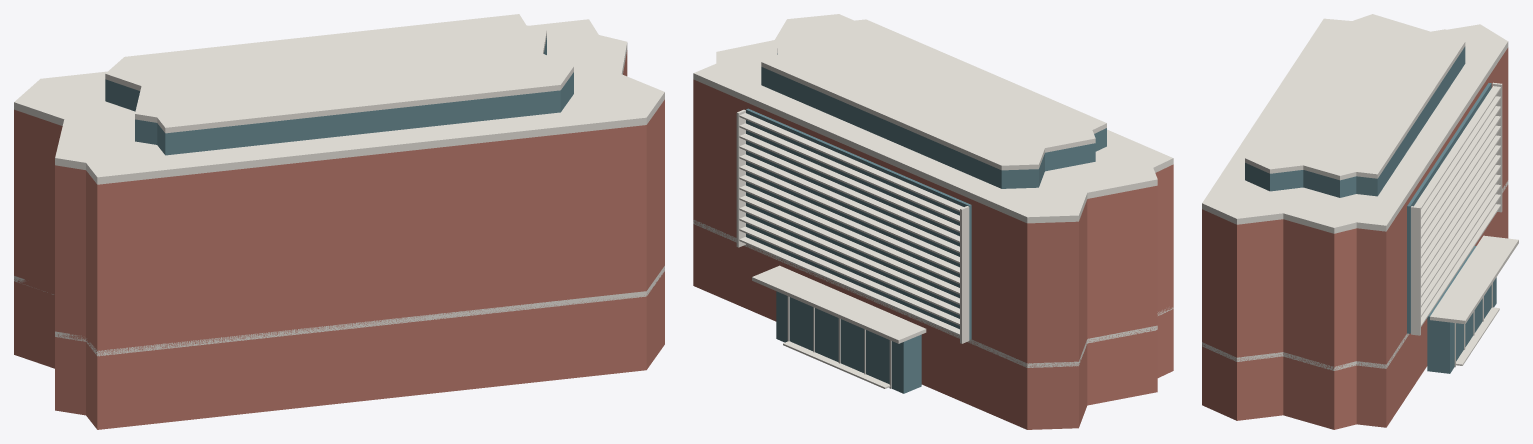
The model's file is chan.glb.
3 renders of one model, left to right at view 1: azimuth 30°, elevation 25°; view 2: azimuth 150°, elevation 25°; view 3: azimuth 270°, elevation 25°, orthographic. The views are drawn at different scales.
Parts seen in each view (by area): view 1: CSW_tower, CSW_podium, CSW_roof, CSW_canopy, CSW_penthouse, CSW_band; view 2: CSW_tower, CSW_roof, CSW_podium, CSW_canopy, CSW_glass, CSW_penthouse, CSW_atrium, CSW_ent_canopy, CSW_band, CSW_louvre_12, CSW_louvre_1, CSW_louvre_2 (+13 smaller); view 3: CSW_tower, CSW_roof, CSW_canopy, CSW_podium, CSW_penthouse, CSW_ent_canopy, CSW_atrium, CSW_glass, CSW_side_fin_0, CSW_louvre_12, CSW_band, CSW_louvre_6 (+13 smaller).
Part boxes in pixels (x1,y1,x2,y2): CSW_tower: (14, 50, 664, 356); CSW_podium: (14, 271, 664, 429); CSW_roof: (105, 14, 573, 133); CSW_canopy: (14, 19, 664, 184); CSW_penthouse: (105, 36, 573, 155); CSW_band: (14, 266, 664, 356); CSW_tower: (693, 79, 1173, 367); CSW_roof: (761, 19, 1106, 170); CSW_podium: (693, 224, 1173, 429); CSW_canopy: (693, 14, 1173, 223); CSW_glass: (746, 108, 971, 339); CSW_penthouse: (761, 53, 1106, 188); CSW_atrium: (776, 291, 921, 393); CSW_ent_canopy: (752, 265, 926, 343); CSW_band: (693, 220, 1173, 367); CSW_louvre_12: (739, 113, 963, 211); CSW_louvre_1: (739, 226, 959, 325); CSW_louvre_2: (739, 216, 959, 315); CSW_tower: (1202, 47, 1508, 370); CSW_roof: (1245, 22, 1465, 180); CSW_canopy: (1202, 14, 1508, 233); CSW_podium: (1202, 185, 1508, 429); CSW_penthouse: (1245, 46, 1465, 197); CSW_ent_canopy: (1430, 235, 1518, 324); CSW_atrium: (1427, 246, 1496, 373); CSW_glass: (1407, 83, 1491, 333); CSW_side_fin_0: (1411, 206, 1420, 335); CSW_louvre_12: (1414, 86, 1500, 208); CSW_band: (1202, 180, 1508, 370); CSW_louvre_6: (1421, 145, 1500, 267).
Size of the model in its own units: 46.79 by 22.85 by 29.28.
